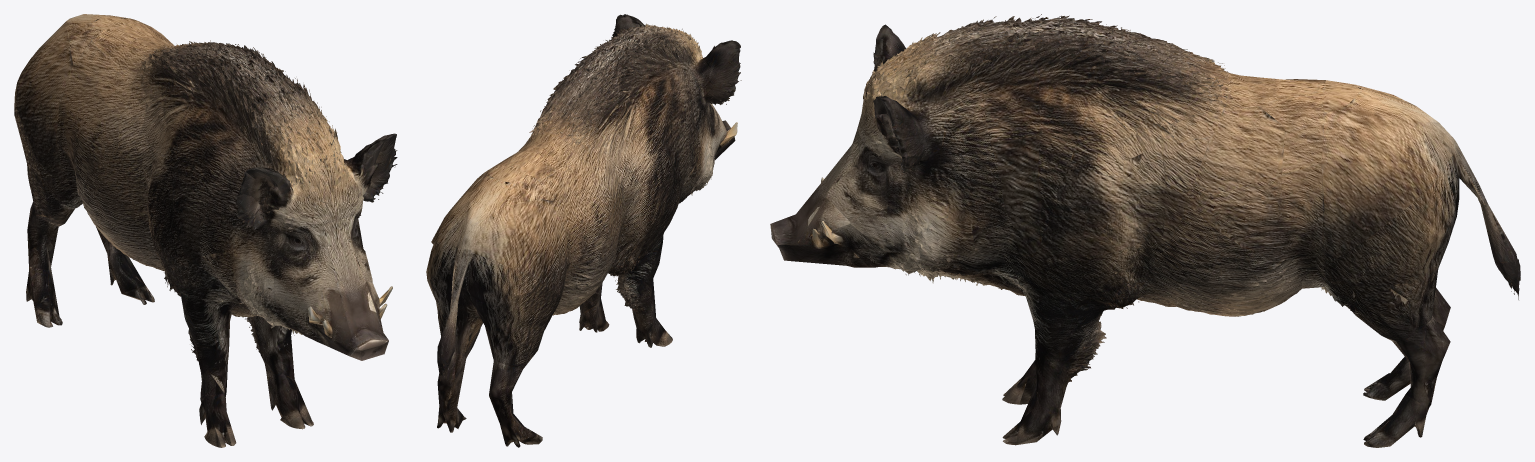
The model's file is boar__boar-mewwom.glb.
3 renders of one model, left to right at view 1: azimuth 30°, elevation 25°; view 2: azimuth 150°, elevation 25°; view 3: azimuth 270°, elevation 25°, orthographic. The views are drawn at different scales.
Bounding box in the file's own units: 0.5191 × 1.1 × 1.89.
Materials: 1 (1 with a texture image).
